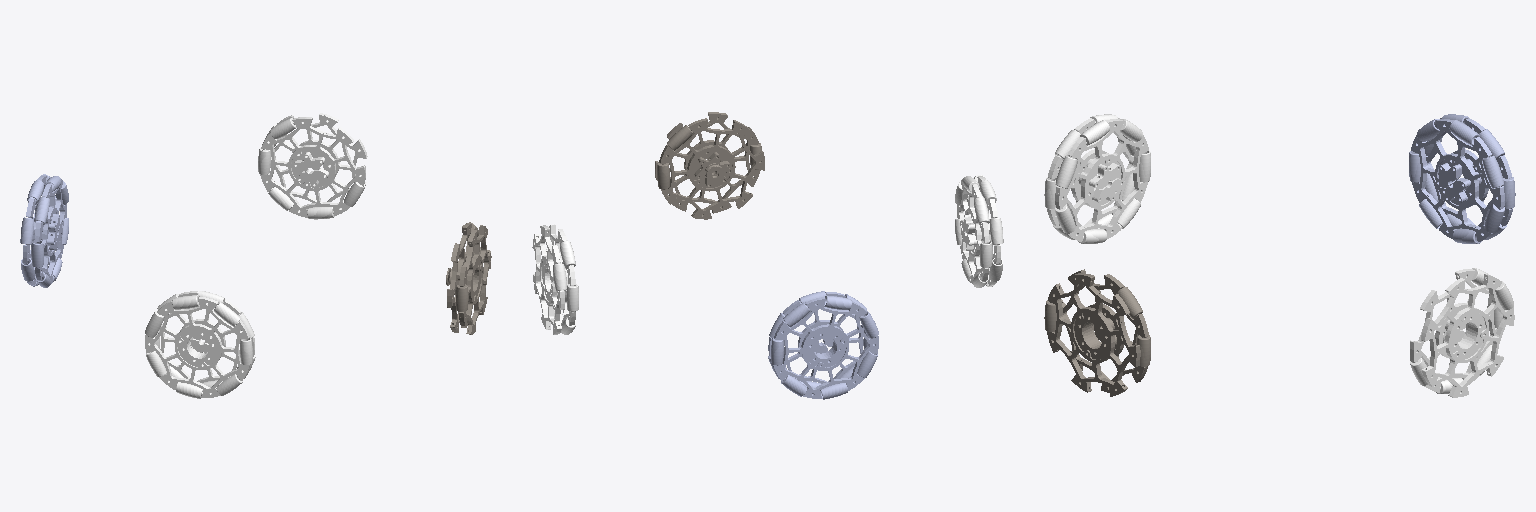
The robot description file, URDF, robot "ma_sentry_urdf":
<?xml version="1.0" encoding="utf-8"?>
<!-- This URDF was automatically created by SolidWorks to URDF Exporter! Originally created by [author] ([email redacted]) 
     Commit Version: 1.6.0-4-g7f85cfe  Build Version: 1.6.7995.38578
     For more information, please see http://wiki.ros.org/sw_urdf_exporter -->
<robot
  name="ma_sentry_urdf">
  <link
    name="base_link">
    <inertial>
      <origin
        xyz="0.0862488926483483 0.0621658734955369 0.262402039237657"
        rpy="0 0 0" />
      <mass
        value="10.8087193664072" />
      <inertia
        ixx="0.0214677517054228"
        ixy="-0.000193020417837888"
        ixz="8.27218748111831E-05"
        iyy="0.0255926993380979"
        iyz="-8.0111099445782E-05"
        izz="0.0121455057214487" />
    </inertial>
    <visual>
      <origin
        xyz="0 0 0"
        rpy="0 0 0" />
      <geometry>
        <mesh
          filename="package://ma_sentry_urdf/meshes/base_link.STL" />
      </geometry>
      <material
        name="">
        <color
          rgba="1 1 1 1" />
      </material>
    </visual>
    <collision>
      <origin
        xyz="0 0 0"
        rpy="0 0 0" />
      <geometry>
        <mesh
          filename="package://ma_sentry_urdf/meshes/base_link.STL" />
      </geometry>
    </collision>
  </link>
  <link
    name="1_Link">
    <inertial>
      <origin
        xyz="0.00620923170793747 -0.000547653647351432 0.00828135869405194"
        rpy="0 0 0" />
      <mass
        value="0.332440985195605" />
      <inertia
        ixx="0.000155022617525618"
        ixy="-1.23737063836232E-06"
        ixz="-7.45388993583784E-20"
        iyy="0.000160803958052241"
        iyz="-2.03287907341032E-20"
        izz="0.00030759824693908" />
    </inertial>
    <visual>
      <origin
        xyz="0 0 0"
        rpy="0 0 0" />
      <geometry>
        <mesh
          filename="package://ma_sentry_urdf/meshes/1_Link.STL" />
      </geometry>
      <material
        name="">
        <color
          rgba="1 1 1 1" />
      </material>
    </visual>
    <collision>
      <origin
        xyz="0 0 0"
        rpy="0 0 0" />
      <geometry>
        <mesh
          filename="package://ma_sentry_urdf/meshes/1_Link.STL" />
      </geometry>
    </collision>
  </link>
  <joint
    name="1"
    type="fixed">
    <origin
      xyz="-0.142966408792554 -0.485966408792549 -0.0174999999992187"
      rpy="-1.5707963267949 -0.261799387799134 -0.785398163397454" />
    <parent
      link="base_link" />
    <child
      link="1_Link" />
    <axis
      xyz="0 0 0" />
  </joint>
  <link
    name="2_Link">
    <inertial>
      <origin
        xyz="0.00540813251669661 -0.0618677129623183 -0.00959296954912124"
        rpy="0 0 0" />
      <mass
        value="0.272373357196352" />
      <inertia
        ixx="0.00029133481281256"
        ixy="3.48130381346589E-05"
        ixz="-2.78493445186512E-07"
        iyy="0.000160352347453317"
        iyz="1.11723875949642E-06"
        izz="0.000155226838194564" />
    </inertial>
    <visual>
      <origin
        xyz="0 0 0"
        rpy="0 0 0" />
      <geometry>
        <mesh
          filename="package://ma_sentry_urdf/meshes/2_Link.STL" />
      </geometry>
      <material
        name="">
        <color
          rgba="0.792156862745098 0.819607843137255 0.933333333333333 1" />
      </material>
    </visual>
    <collision>
      <origin
        xyz="0 0 0"
        rpy="0 0 0" />
      <geometry>
        <mesh
          filename="package://ma_sentry_urdf/meshes/2_Link.STL" />
      </geometry>
    </collision>
  </link>
  <joint
    name="2"
    type="fixed">
    <origin
      xyz="-0.101925545684657 0.0131285922440031 0.0267999263561746"
      rpy="2.22105776873922 0.195856521558942 2.50314862806191" />
    <parent
      link="base_link" />
    <child
      link="2_Link" />
    <axis
      xyz="0 0 0" />
  </joint>
  <link
    name="3_Link">
    <inertial>
      <origin
        xyz="8.61533397830683E-06 -1.49221961713991E-05 0.00811341709646876"
        rpy="0 0 0" />
      <mass
        value="0.405088777295711" />
      <inertia
        ixx="0.000163343390473993"
        ixy="-1.28128815286042E-06"
        ixz="3.59141969635823E-19"
        iyy="0.000164822894593924"
        iyz="-2.10064170919066E-19"
        izz="0.000318778294539942" />
    </inertial>
    <visual>
      <origin
        xyz="0 0 0"
        rpy="0 0 0" />
      <geometry>
        <mesh
          filename="package://ma_sentry_urdf/meshes/3_Link.STL" />
      </geometry>
      <material
        name="">
        <color
          rgba="1 1 1 1" />
      </material>
    </visual>
    <collision>
      <origin
        xyz="0 0 0"
        rpy="0 0 0" />
      <geometry>
        <mesh
          filename="package://ma_sentry_urdf/meshes/3_Link.STL" />
      </geometry>
    </collision>
  </link>
  <joint
    name="3"
    type="fixed">
    <origin
      xyz="0.31296640879255 -0.0300335912074498 -0.0174999999989849"
      rpy="1.57079632679489 0.261799387799135 -0.785398163397455" />
    <parent
      link="base_link" />
    <child
      link="3_Link" />
    <axis
      xyz="0 0 0" />
  </joint>
  <link
    name="4_Link">
    <inertial>
      <origin
        xyz="-5.04787255499461E-06 -0.0171154756404496 1.51610025517779E-05"
        rpy="0 0 0" />
      <mass
        value="0.436812880165245" />
      <inertia
        ixx="0.000164732470196718"
        ixy="-7.45388993583784E-20"
        ixz="-8.8688783709155E-07"
        iyy="0.000321751700567641"
        iyz="-2.16840434497101E-19"
        izz="0.000167100897865302" />
    </inertial>
    <visual>
      <origin
        xyz="0 0 0"
        rpy="0 0 0" />
      <geometry>
        <mesh
          filename="package://ma_sentry_urdf/meshes/4_Link.STL" />
      </geometry>
      <material
        name="">
        <color
          rgba="0.647058823529412 0.619607843137255 0.588235294117647 1" />
      </material>
    </visual>
    <collision>
      <origin
        xyz="0 0 0"
        rpy="0 0 0" />
      <geometry>
        <mesh
          filename="package://ma_sentry_urdf/meshes/4_Link.STL" />
      </geometry>
    </collision>
  </link>
  <joint
    name="4"
    type="fixed">
    <origin
      xyz="0.293874525700515 -0.466874525700513 -0.0174999999993333"
      rpy="0 1.10680467313487 0.785398163397453" />
    <parent
      link="base_link" />
    <child
      link="4_Link" />
    <axis
      xyz="0 0 0" />
  </joint>
  <link
    name="5_Link">
    <inertial>
      <origin
        xyz="0.0104546135318662 -0.0225665209249179 0.193242622446725"
        rpy="0 0 0" />
      <mass
        value="2.73797674659914" />
      <inertia
        ixx="0.00364732194053317"
        ixy="0.000204823881170349"
        ixz="-4.54373025878538E-06"
        iyy="0.00362130537534912"
        iyz="3.23303357836508E-05"
        izz="0.00320257740623965" />
    </inertial>
    <visual>
      <origin
        xyz="0 0 0"
        rpy="0 0 0" />
      <geometry>
        <mesh
          filename="package://ma_sentry_urdf/meshes/5_Link.STL" />
      </geometry>
      <material
        name="">
        <color
          rgba="1 1 1 1" />
      </material>
    </visual>
    <collision>
      <origin
        xyz="0 0 0"
        rpy="0 0 0" />
      <geometry>
        <mesh
          filename="package://ma_sentry_urdf/meshes/5_Link.STL" />
      </geometry>
    </collision>
  </link>
  <joint
    name="5"
    type="fixed">
    <origin
      xyz="0.0349669631523045 -0.469191134339959 0.272499999999991"
      rpy="1.57079632679487 0 2.92740365895619" />
    <parent
      link="base_link" />
    <child
      link="5_Link" />
    <axis
      xyz="0 0 0" />
  </joint>
</robot>

--- Facts derived from the render (not from the file) ---
3 views of the same robot in one strip: view 1: azimuth 30°, elevation 25°; view 2: azimuth 150°, elevation 25°; view 3: azimuth 270°, elevation 25° (orthographic).
Robot: ma_sentry_urdf — 6 links, 5 joints (5 fixed); root link base_link; default pose: all joints at 0.
Visible links, largest first — view 1: 1_Link, 3_Link, 2_Link, 4_Link; view 2: 2_Link, 4_Link, 1_Link, 3_Link; view 3: 1_Link, 2_Link, 3_Link, 4_Link.
Link boxes in pixels (bbox=[...]): 1_Link: bbox=[145, 291, 255, 398]; 3_Link: bbox=[258, 113, 367, 219]; 2_Link: bbox=[20, 174, 68, 287]; 4_Link: bbox=[446, 222, 491, 334]; 2_Link: bbox=[768, 291, 878, 399]; 4_Link: bbox=[655, 112, 764, 219]; 1_Link: bbox=[955, 175, 1003, 287]; 3_Link: bbox=[532, 224, 578, 334]; 1_Link: bbox=[1044, 114, 1150, 243]; 2_Link: bbox=[1409, 114, 1515, 243]; 3_Link: bbox=[1410, 268, 1514, 397]; 4_Link: bbox=[1044, 269, 1150, 396].
Bounding box of the posed robot: 0.5754 × 0.577 × 0.1623 m (x, y, z).
4 mesh visuals loaded from 6 distinct referenced files (4 binary STL); not drawn: 2 (reference not matched to a file when rendering).